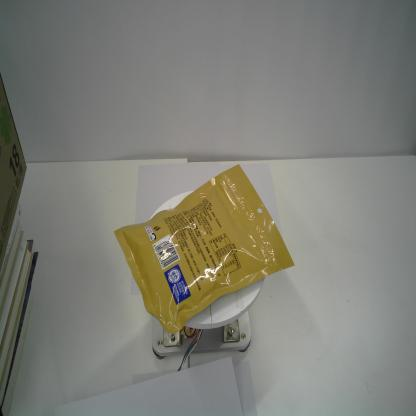Dried Fruit: (111, 162, 296, 340)
